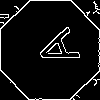A: (25, 25, 81, 75)
